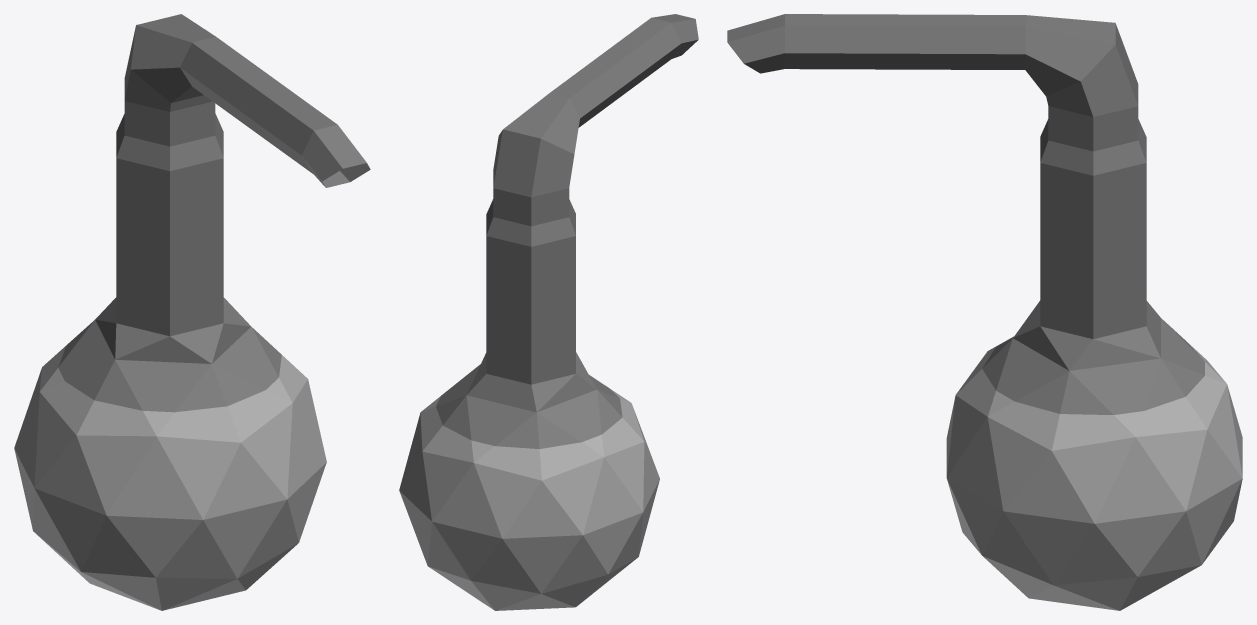
File: alchemist_aparatus_749x25.gltf
3 views of the same model, side by side, from view 1: azimuth 30°, elevation 25°; view 2: azimuth 150°, elevation 25°; view 3: azimuth 270°, elevation 25° (orthographic). The views are drawn at different scales.
Visible parts, largest first — view 1: alchemist_aparatus_749x25; view 2: alchemist_aparatus_749x25; view 3: alchemist_aparatus_749x25.
Boxes of the visible parts, bbox=[...] form: alchemist_aparatus_749x25: bbox=[14, 14, 370, 610]; alchemist_aparatus_749x25: bbox=[399, 14, 698, 610]; alchemist_aparatus_749x25: bbox=[727, 14, 1242, 610].
Size of the model in its own units: 0.5225 by 1.07 by 0.8656.
Materials: 2 (2 with a texture image).
